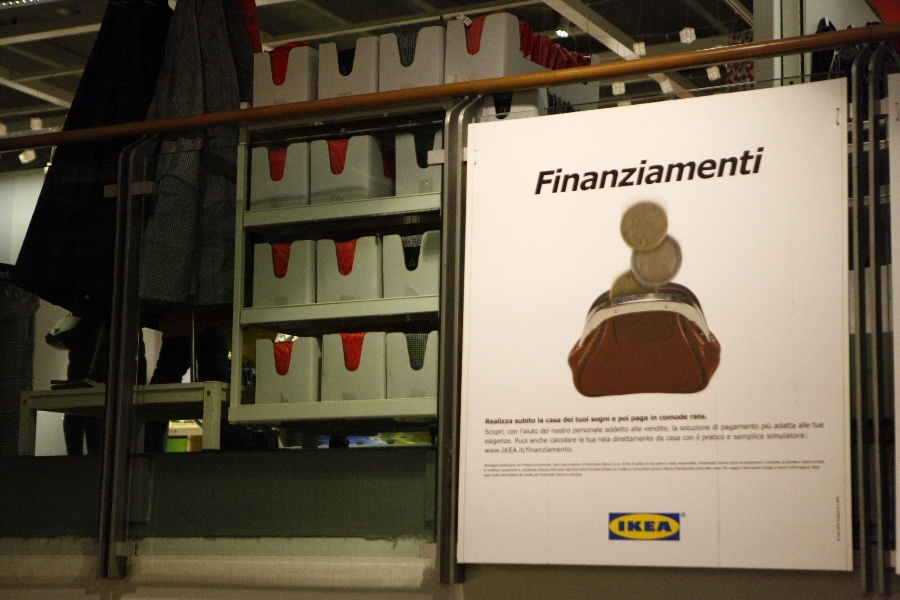text: (545, 145, 560, 197), (561, 145, 576, 197), (577, 145, 592, 197), (593, 145, 608, 197), (609, 145, 624, 197), (625, 145, 640, 197), (641, 145, 656, 197), (657, 145, 672, 197), (673, 145, 688, 197), (689, 145, 704, 197), (705, 145, 720, 197), (721, 145, 736, 197), (737, 145, 752, 197), (753, 145, 766, 197), (836, 496, 848, 542), (497, 461, 512, 479), (513, 461, 528, 479), (529, 461, 544, 479), (545, 461, 560, 479), (561, 461, 576, 479), (577, 461, 592, 479), (593, 461, 608, 479), (609, 461, 624, 479), (625, 461, 640, 479), (641, 461, 656, 479), (657, 461, 672, 479), (673, 461, 688, 479), (689, 461, 704, 479), (705, 461, 720, 479), (721, 461, 736, 479), (737, 461, 752, 479), (753, 461, 768, 479), (769, 461, 784, 479), (785, 461, 800, 479), (801, 461, 816, 479), (483, 461, 496, 479), (540, 145, 544, 197), (657, 520, 673, 533), (625, 520, 640, 533), (641, 520, 656, 533), (817, 461, 826, 479), (497, 446, 512, 455), (513, 446, 528, 455), (529, 446, 544, 455), (545, 446, 560, 455), (577, 426, 592, 435), (721, 423, 736, 432), (737, 423, 752, 432), (593, 416, 608, 424), (673, 413, 688, 421), (705, 434, 720, 442), (737, 433, 752, 441), (497, 418, 513, 425), (497, 438, 513, 445), (561, 436, 577, 443), (484, 446, 496, 455), (561, 446, 573, 455), (609, 426, 624, 433), (625, 435, 640, 442), (769, 433, 784, 440), (785, 433, 800, 440), (659, 413, 672, 421), (530, 437, 544, 444), (577, 416, 590, 423), (641, 435, 654, 442), (657, 425, 670, 432), (593, 426, 603, 435), (689, 425, 704, 431), (753, 433, 764, 441), (578, 436, 592, 442), (644, 425, 656, 432), (690, 414, 704, 420), (515, 418, 528, 424), (563, 417, 576, 423), (515, 438, 528, 444), (485, 438, 496, 445), (613, 435, 624, 442), (785, 422, 796, 429), (486, 418, 496, 425), (546, 418, 560, 423), (486, 429, 496, 436), (550, 436, 560, 443), (774, 422, 784, 429), (619, 520, 624, 533), (631, 416, 640, 423), (801, 422, 810, 429), (561, 428, 571, 434), (598, 436, 608, 442), (726, 434, 736, 440), (497, 429, 505, 436), (641, 416, 649, 423), (761, 422, 768, 430), (529, 428, 538, 434), (631, 426, 640, 432), (753, 423, 759, 432), (817, 421, 824, 428), (520, 428, 528, 434), (552, 428, 560, 434), (612, 417, 624, 421), (673, 435, 681, 441), (680, 425, 688, 431), (696, 434, 704, 440), (529, 418, 536, 424), (537, 418, 544, 424), (657, 435, 664, 441), (665, 435, 672, 441), (713, 424, 720, 430), (619, 415, 624, 423), (651, 414, 656, 421), (625, 415, 629, 423), (721, 434, 725, 442), (507, 429, 512, 435), (513, 429, 518, 435), (586, 437, 592, 442), (683, 435, 688, 441), (689, 435, 694, 441), (705, 425, 710, 431), (540, 427, 544, 434), (545, 427, 549, 434), (604, 426, 608, 433), (625, 426, 629, 433), (801, 433, 805, 440), (812, 421, 816, 428), (573, 426, 576, 435), (682, 513, 688, 517), (673, 425, 677, 431), (733, 433, 736, 441), (769, 422, 772, 430), (545, 437, 548, 444), (702, 434, 704, 442), (593, 437, 596, 442), (766, 433, 768, 440), (798, 422, 800, 429), (609, 436, 611, 442), (705, 414, 707, 420), (591, 416, 592, 424), (609, 416, 610, 424), (575, 416, 576, 423), (641, 426, 642, 432), (655, 435, 656, 441)
